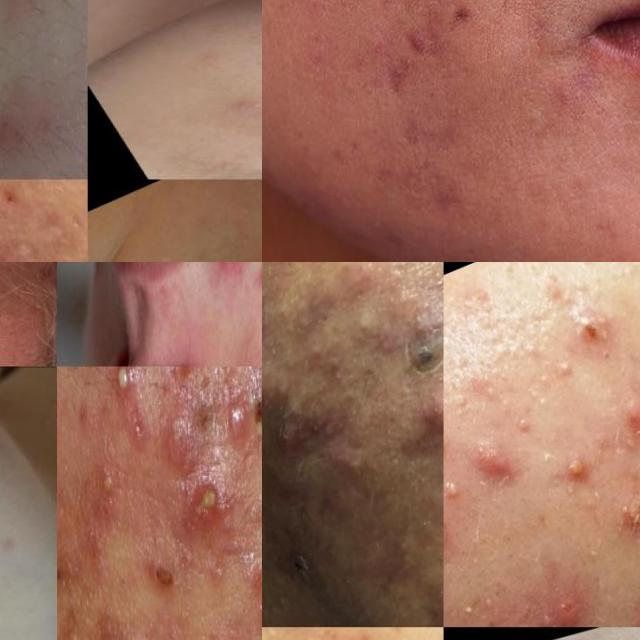acne_scars: (243, 262, 262, 299)
comedone: (536, 341, 592, 394), (460, 363, 511, 417), (496, 393, 543, 447), (449, 587, 495, 627), (228, 183, 262, 228), (300, 329, 340, 364), (62, 195, 88, 245), (597, 262, 640, 289), (355, 311, 382, 348), (299, 603, 338, 627), (213, 79, 249, 97), (504, 613, 536, 627), (262, 627, 287, 640)
cystic: (418, 377, 444, 448)
papule: (507, 528, 616, 627), (601, 377, 640, 465), (162, 396, 205, 462), (222, 370, 252, 457), (217, 93, 262, 122)
pustule: (543, 427, 612, 510), (444, 459, 481, 524), (85, 438, 116, 500), (444, 498, 467, 571), (102, 366, 136, 412), (211, 262, 241, 281)
sebo-crystan-conglo: (462, 411, 542, 518), (175, 471, 235, 536), (598, 472, 640, 560), (401, 314, 444, 386), (527, 589, 608, 627), (283, 404, 333, 454)
